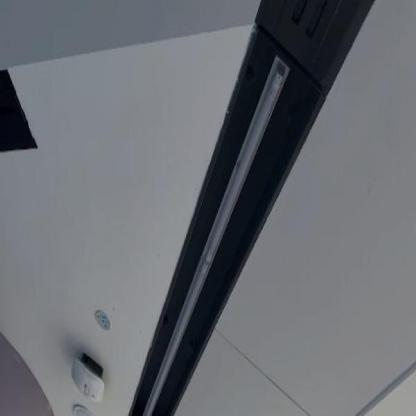light_off: (132, 44, 300, 415)
